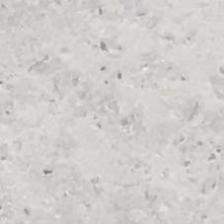Non_Crack: (18, 22, 200, 190)
